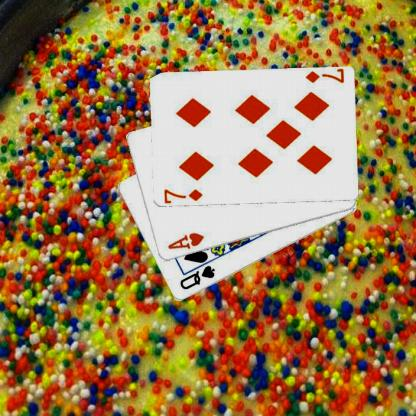7D: (161, 186, 204, 202), (302, 69, 344, 84)
AH: (165, 230, 205, 250)
QS: (177, 263, 216, 291)
